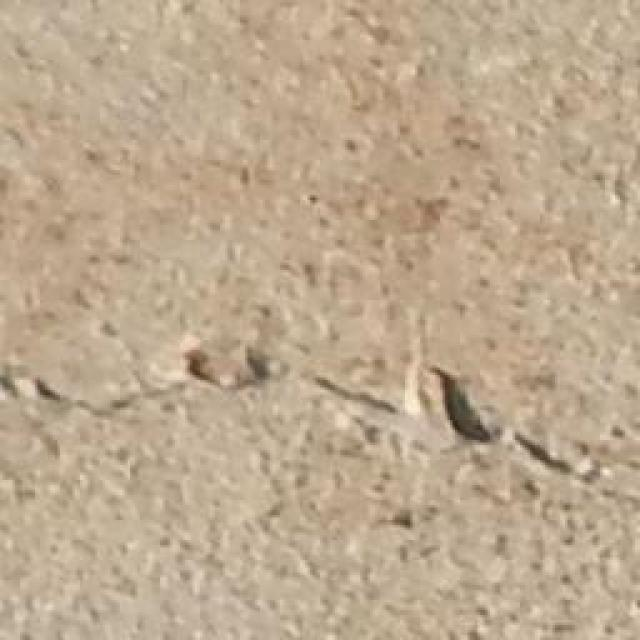concrete-crack: (0, 345, 633, 501)
